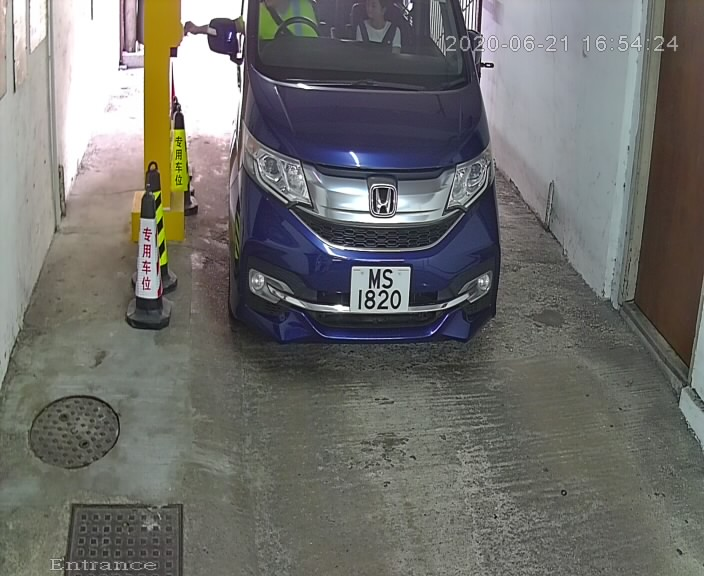privatecar: (197, 1, 525, 361)
